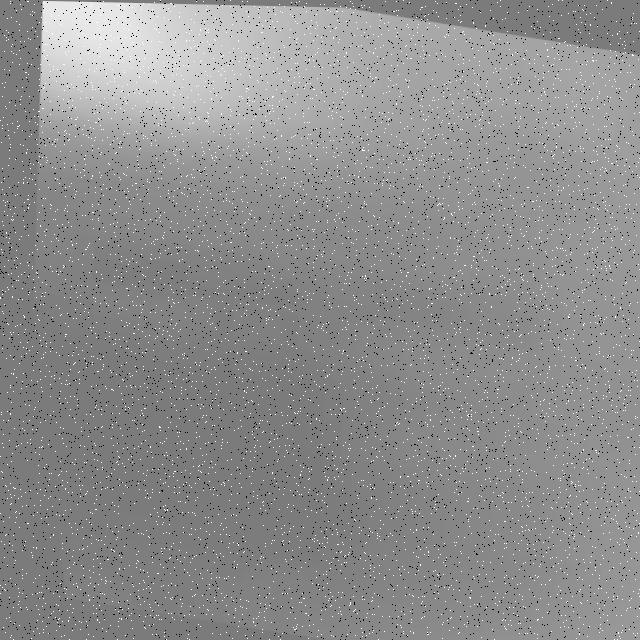person: (26, 1, 450, 184)
